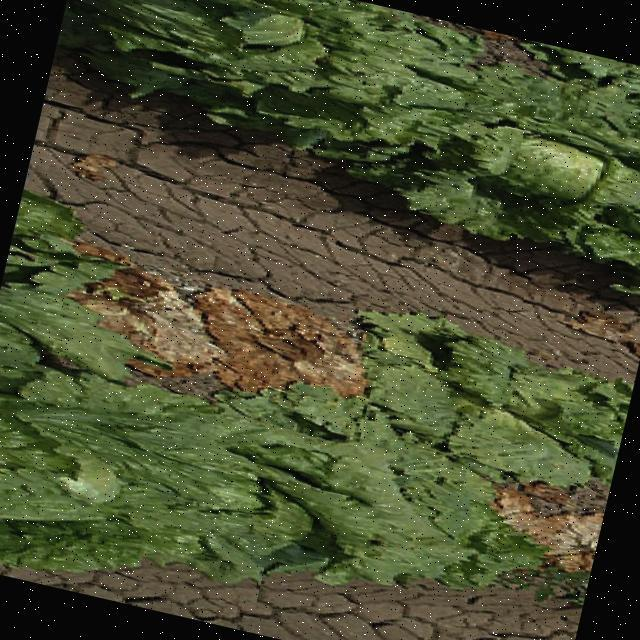Septoria_Blight: (42, 242, 398, 418), (462, 441, 614, 581)
